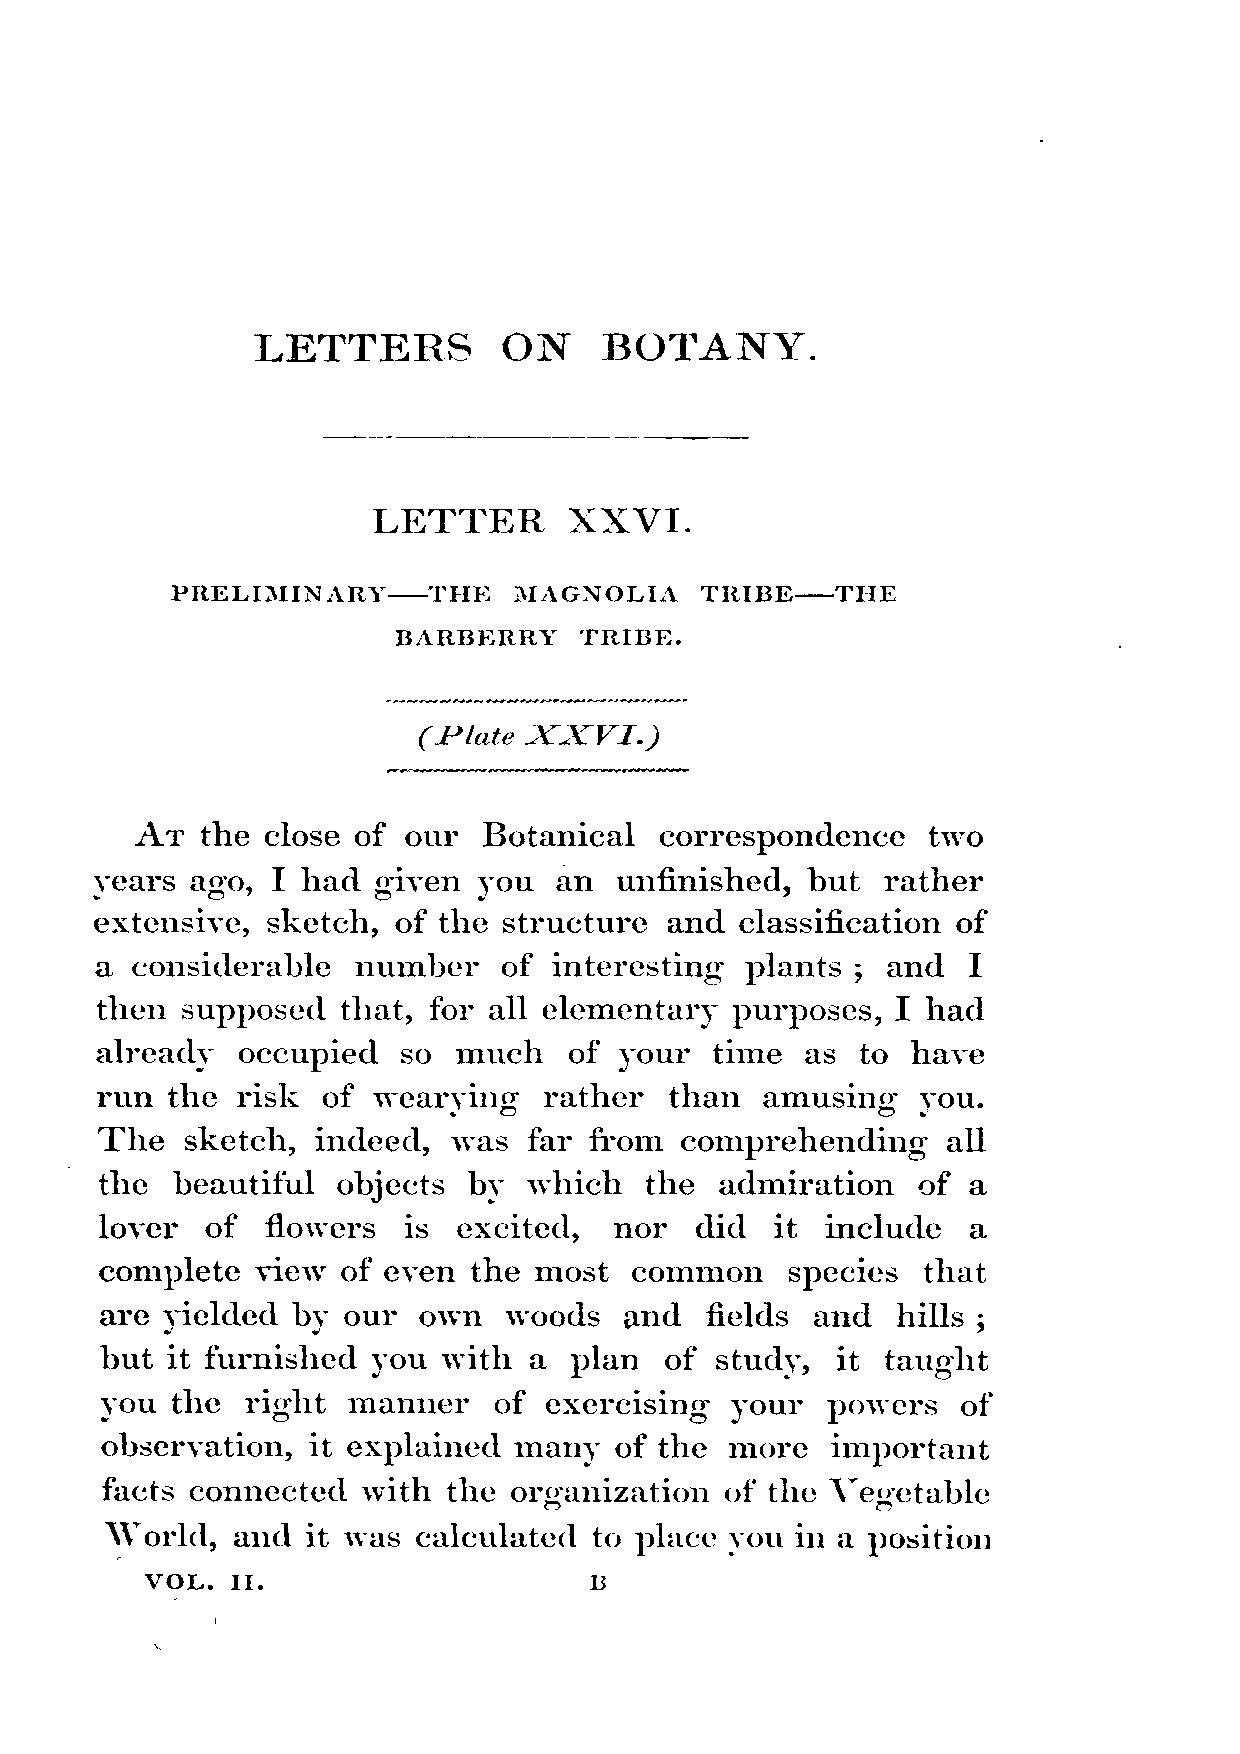chapter: (168, 505, 896, 778), (248, 327, 819, 362)
content: (90, 820, 990, 1561)
content_pagenumber: (586, 1571, 611, 1596)
